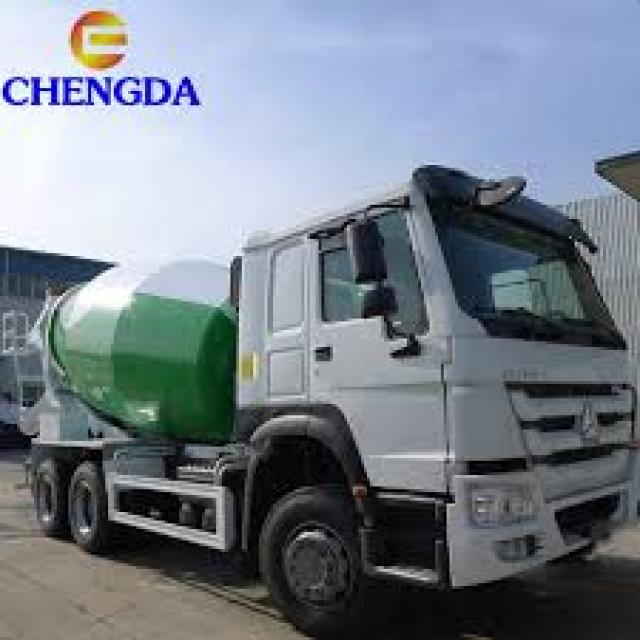Mixer Truck: (13, 164, 638, 636)
